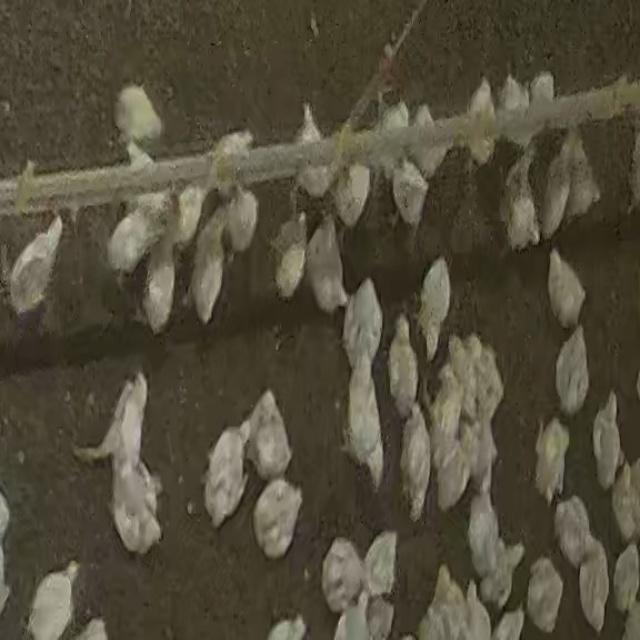chicken: (112, 453, 164, 558), (7, 215, 60, 315), (344, 356, 385, 484), (203, 421, 250, 525), (249, 477, 305, 559), (191, 208, 229, 325), (106, 372, 148, 476), (304, 214, 348, 312), (26, 563, 79, 640), (500, 147, 539, 250), (399, 405, 433, 519), (319, 534, 367, 614), (106, 203, 157, 277), (465, 494, 504, 590), (143, 230, 179, 334), (341, 277, 383, 365), (416, 258, 452, 360), (434, 415, 471, 513), (554, 325, 592, 419), (546, 246, 588, 330), (419, 569, 469, 639), (296, 105, 332, 201), (270, 211, 308, 301), (470, 336, 505, 430), (566, 132, 602, 222), (431, 355, 464, 453), (114, 84, 163, 149), (552, 496, 596, 568), (407, 103, 447, 181), (484, 539, 526, 613), (577, 539, 611, 630), (541, 139, 573, 235), (590, 390, 621, 489), (466, 405, 499, 498), (526, 555, 566, 631), (387, 318, 419, 413), (533, 419, 569, 503), (258, 383, 289, 479), (392, 156, 429, 232), (464, 77, 494, 169), (332, 159, 369, 230), (363, 529, 398, 597), (611, 540, 640, 622), (610, 460, 639, 540), (224, 185, 258, 252), (176, 183, 208, 246), (505, 77, 529, 152), (461, 582, 493, 638)
